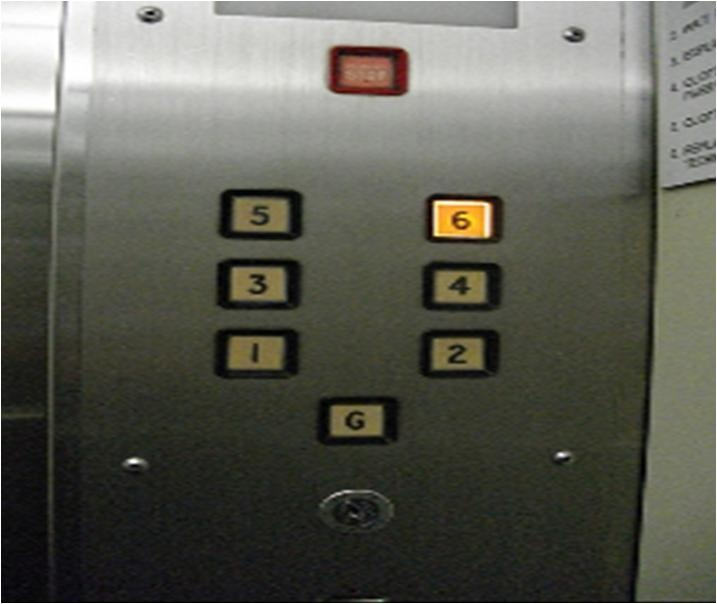1: (211, 326, 301, 379)
2: (417, 328, 503, 379)
3: (215, 257, 302, 311)
4: (419, 259, 503, 312)
5: (217, 188, 305, 240)
6: (425, 192, 507, 245)
G: (315, 395, 399, 445)
keyhole: (315, 488, 395, 532)
text_stop: (327, 45, 409, 97)
